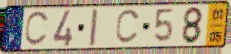4: (52, 8, 75, 49)
5: (152, 7, 175, 45)
8: (180, 5, 204, 45)
C: (114, 8, 143, 46), (23, 10, 52, 48)
I: (88, 8, 99, 48)
